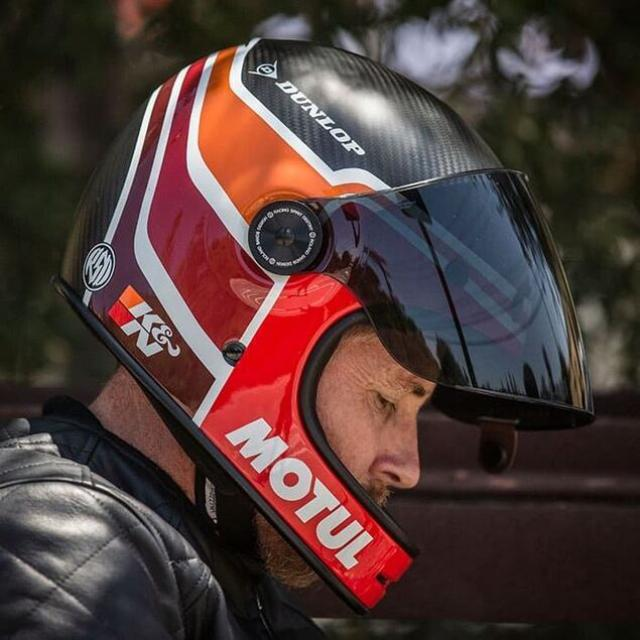Full-face-helmet: (52, 35, 600, 617)
